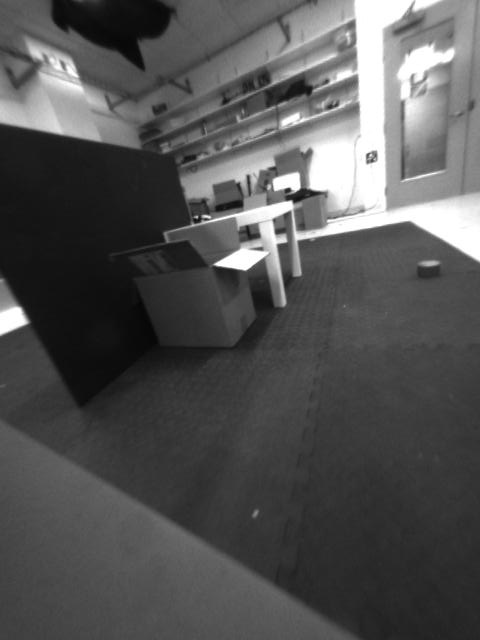dogtoy: (410, 253, 446, 286)
